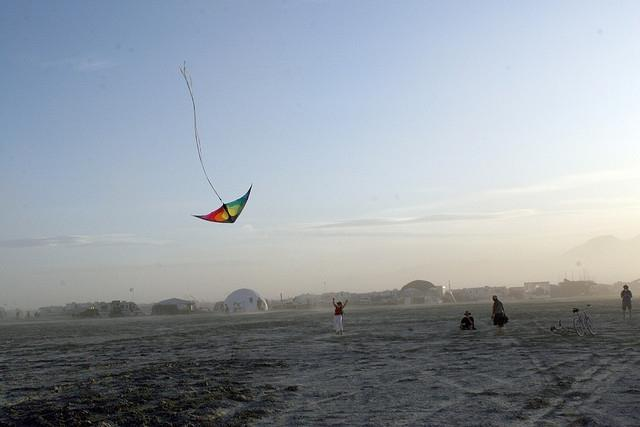bicycle: (572, 306, 598, 336), (551, 320, 576, 334)
